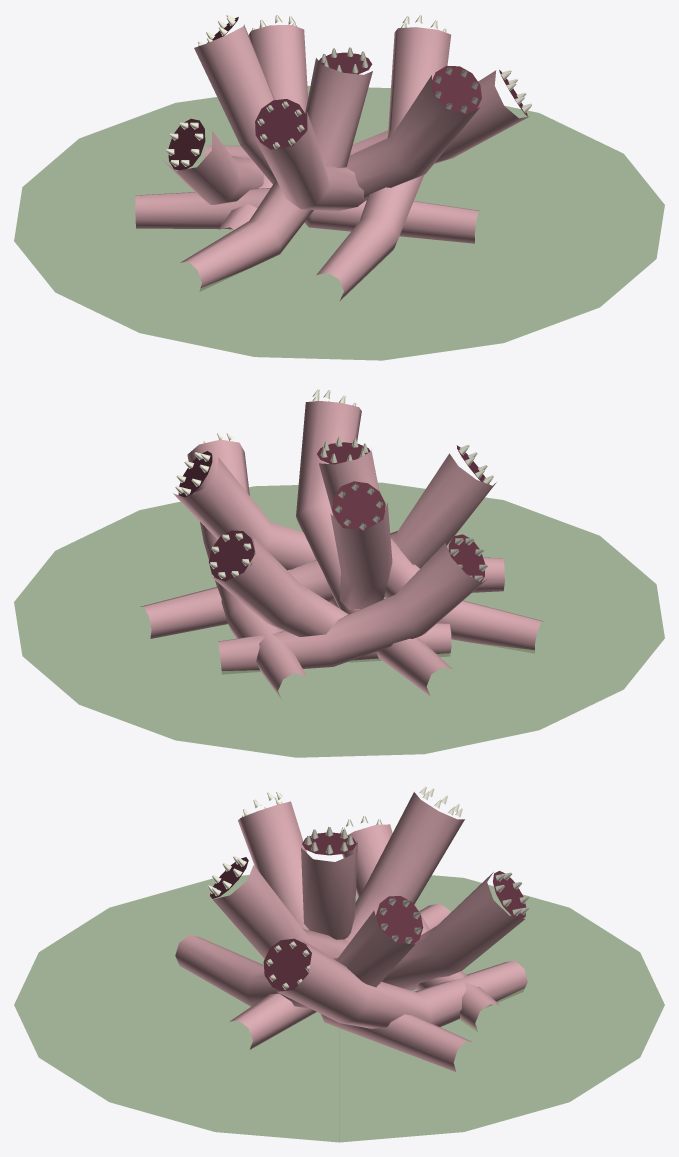
The model's file is worm_mass.glb.
3 renders of one model, top to bottom at view 1: azimuth 30°, elevation 25°; view 2: azimuth 150°, elevation 25°; view 3: azimuth 270°, elevation 25°, orthographic.
Size of the model in its own units: 1.3 by 0.4289 by 1.3.
